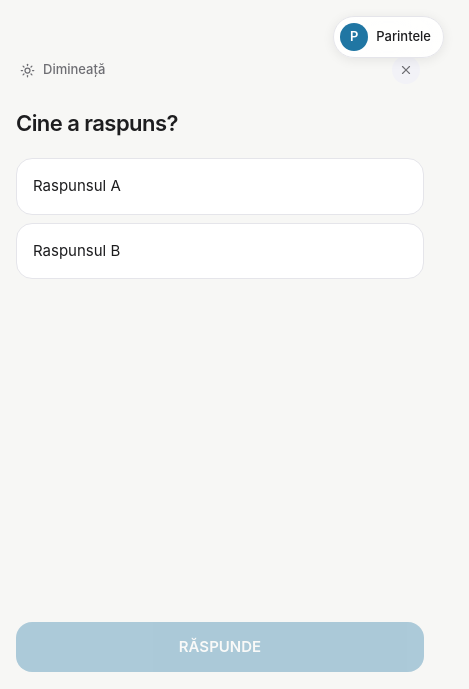
Scenario: R2 regression: a request in flight for one profile never paints its result on another profile's screen › Parent's submit resolves AFTER switching to Child -- Child's screen stays on the question, not Parent's reveal
Expected: the heading "Cine a raspuns?" is shown, 16,110 -> 178,136
Click the button "Raspunsul A" at (77, 186), box 16,158 -> 424,215
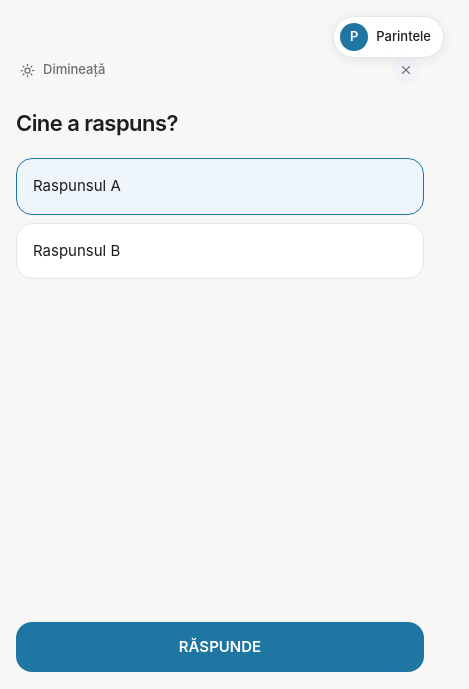
Click the button "RĂSPUNDE" at (220, 647), box 16,622 -> 424,672
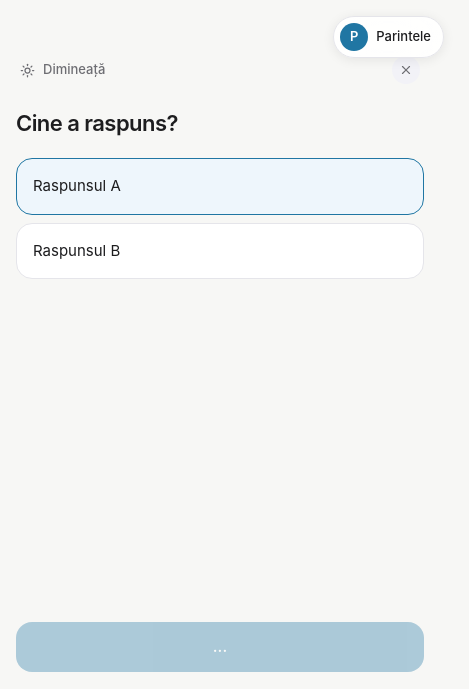
Click the button with aria-label "profil" at (389, 37), box 333,16 -> 444,58
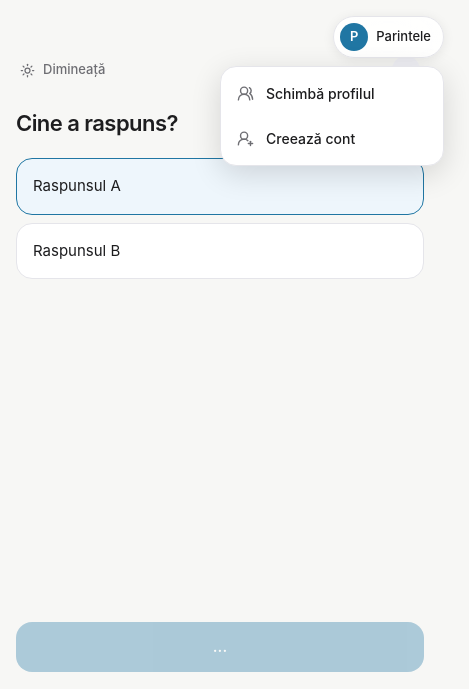
Click the button "Schimbă profilul" at (332, 94), box 221,71 -> 443,116
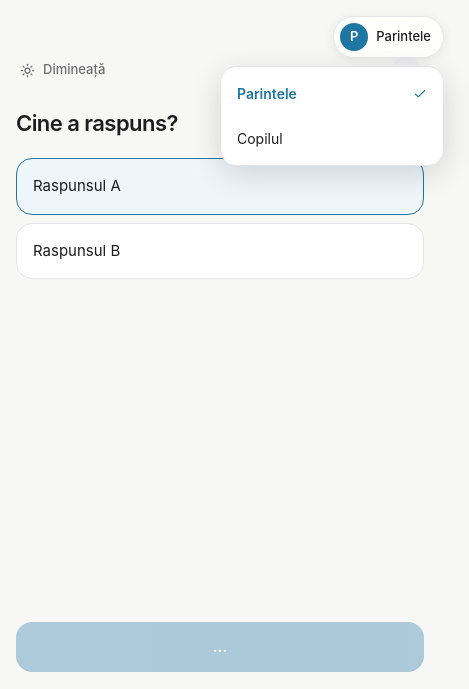
Click the button "Copilul" at (332, 138), box 221,116 -> 443,161
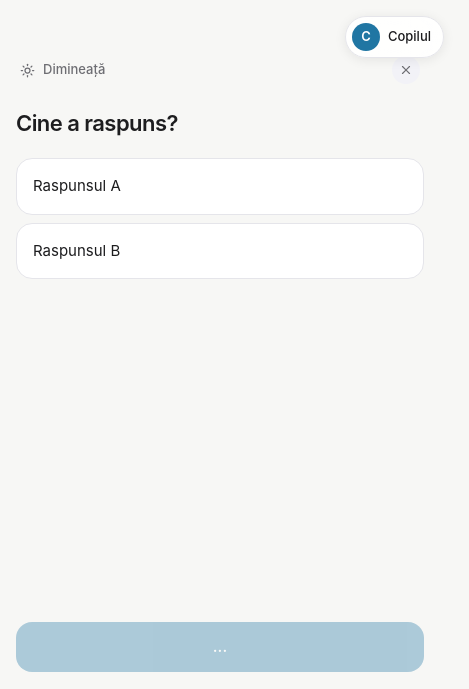
Expected: the heading "Cine a raspuns?" is shown, 16,110 -> 178,136
Expected: the text "Copilul" is shown, 388,27 -> 431,47
